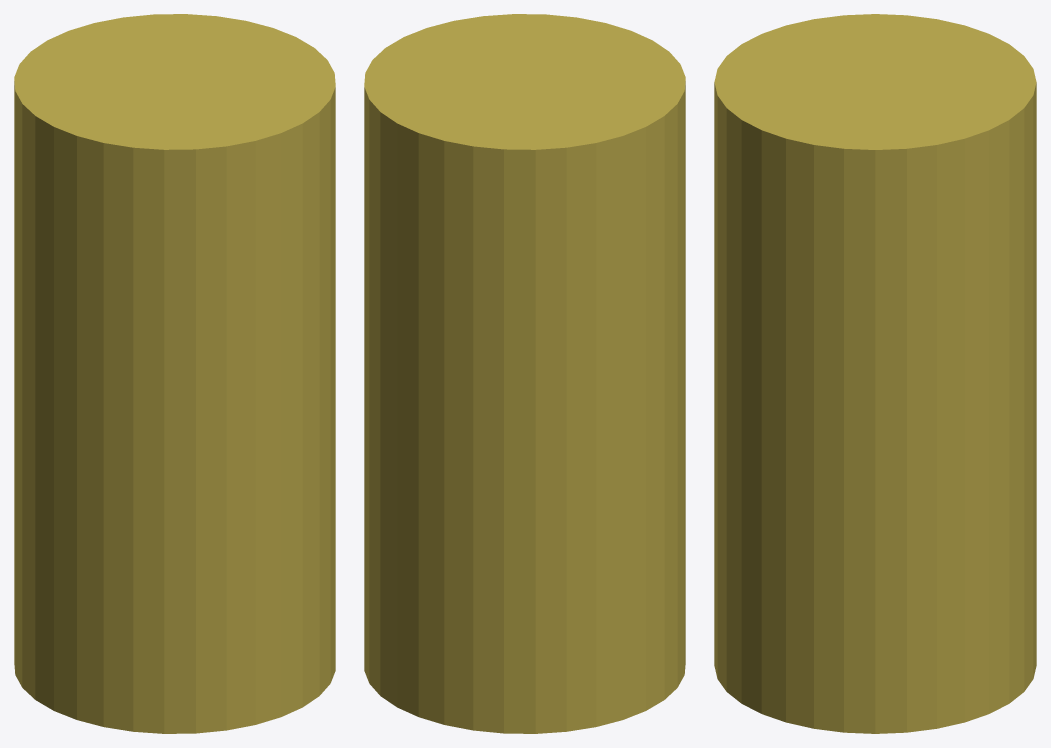
File: silinder.glb
3 views of the same model, side by side, from view 1: azimuth 30°, elevation 25°; view 2: azimuth 150°, elevation 25°; view 3: azimuth 270°, elevation 25° (orthographic).
Visible parts, largest first — view 1: Cylinder; view 2: Cylinder; view 3: Cylinder.
Part boxes in pixels (bbox=[...]): Cylinder: bbox=[14, 14, 335, 733]; Cylinder: bbox=[364, 14, 685, 733]; Cylinder: bbox=[714, 14, 1036, 733].
Bounding box in the file's own units: 6 × 12 × 6.
